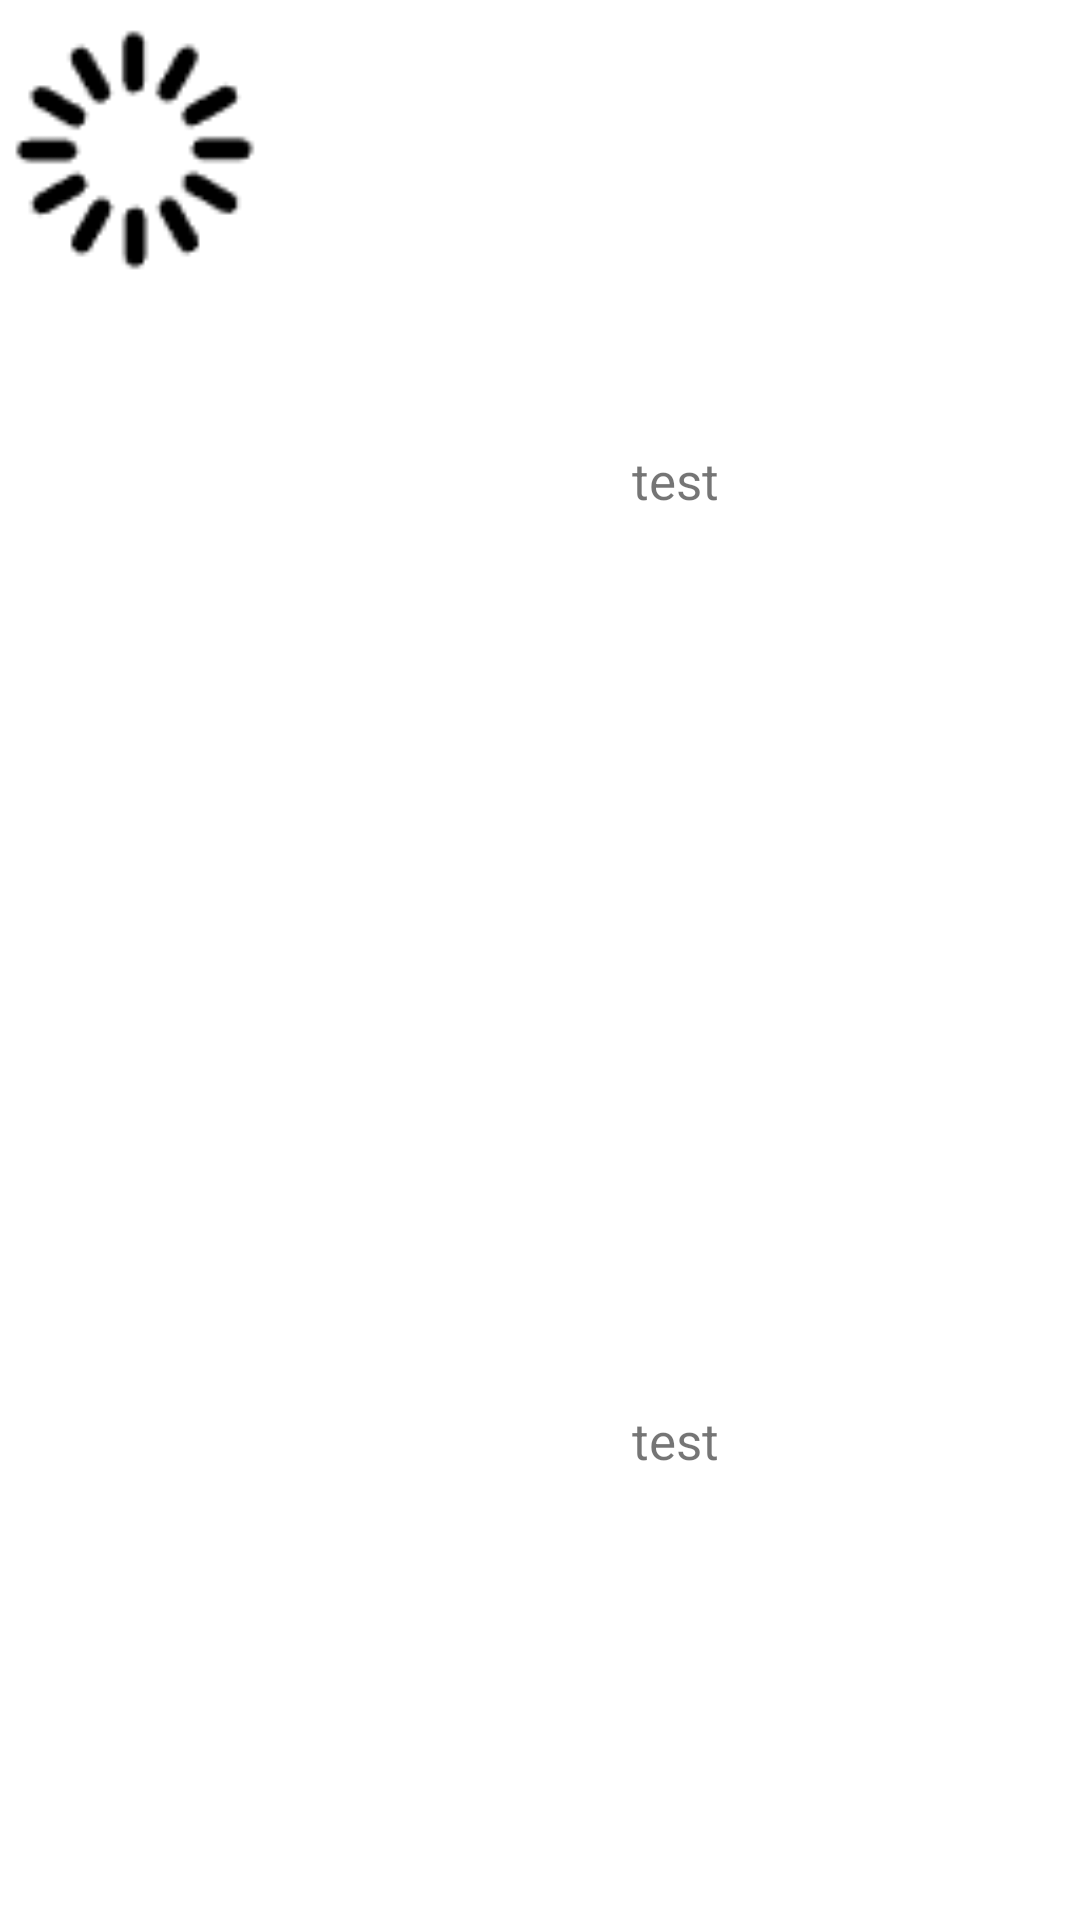

Where icons sit on this 1080*1920 app screen, as [x1=x1, y1=y1, x2=x2, y2=y2]:
loading: [x1=15, y1=30, x2=254, y2=269]
